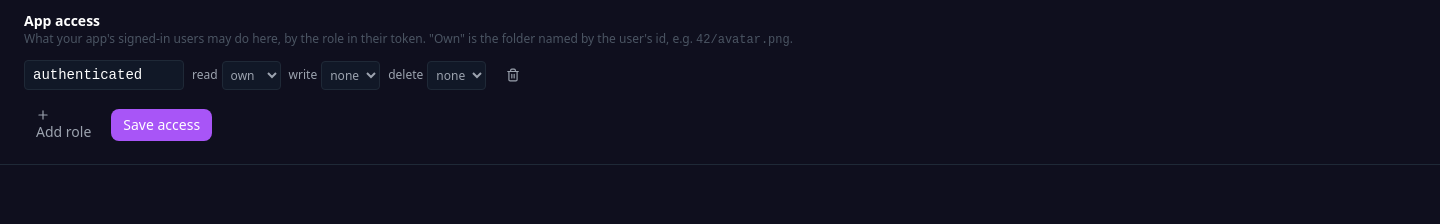
Test: Storage — app access rules › adding a role and saving sends the whole rule set
Click the button "Add role": (64, 125) x1=24 y1=102 x2=103 y2=148
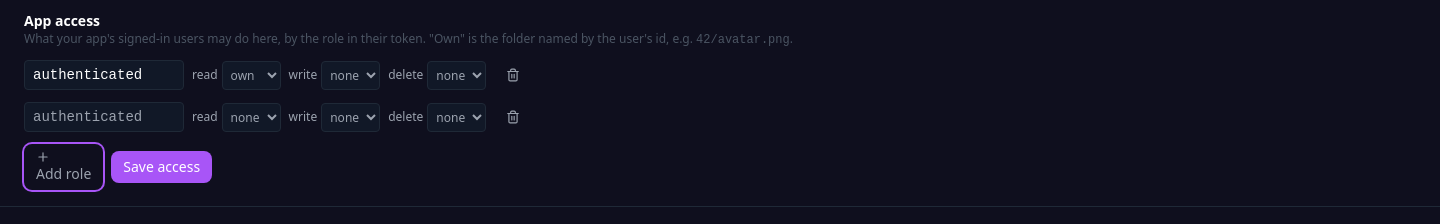
In the field named "Role name": (104, 117) x1=24 y1=102 x2=184 y2=132, type "staff"
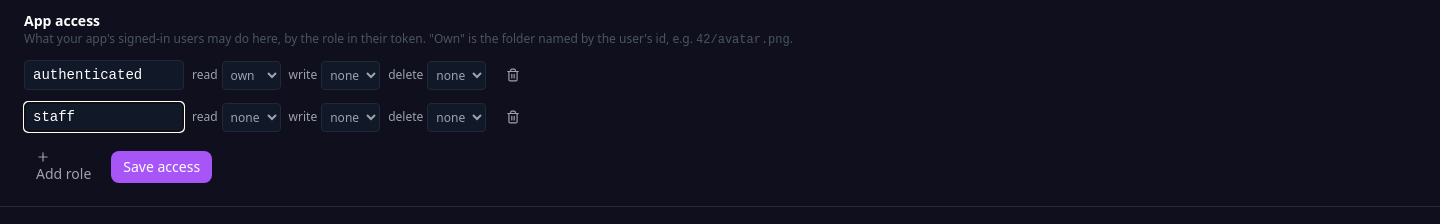
Select "all" in the dropdown named "staff write": (351, 117) x1=321 y1=102 x2=380 y2=132
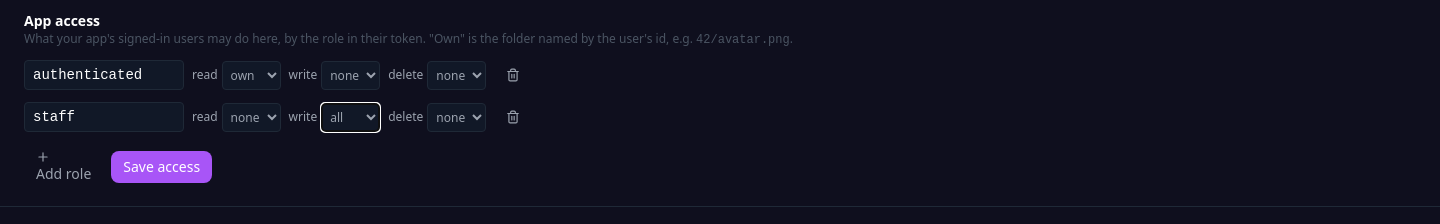
Click the button "Save access": (162, 167) x1=111 y1=151 x2=212 y2=183
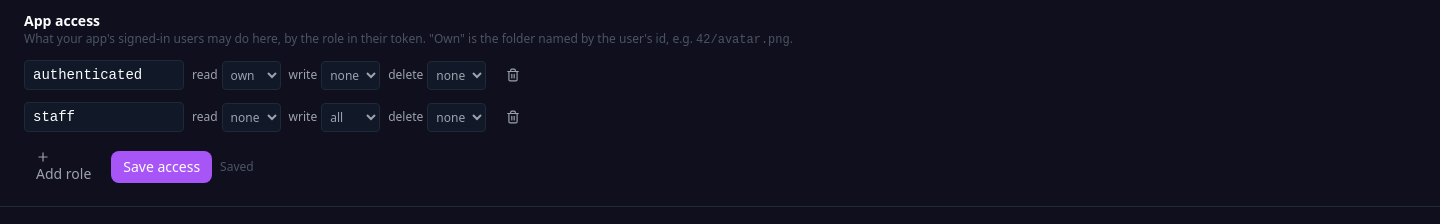
Result: the text "Saved" is shown at x1=220 y1=159 x2=254 y2=175
